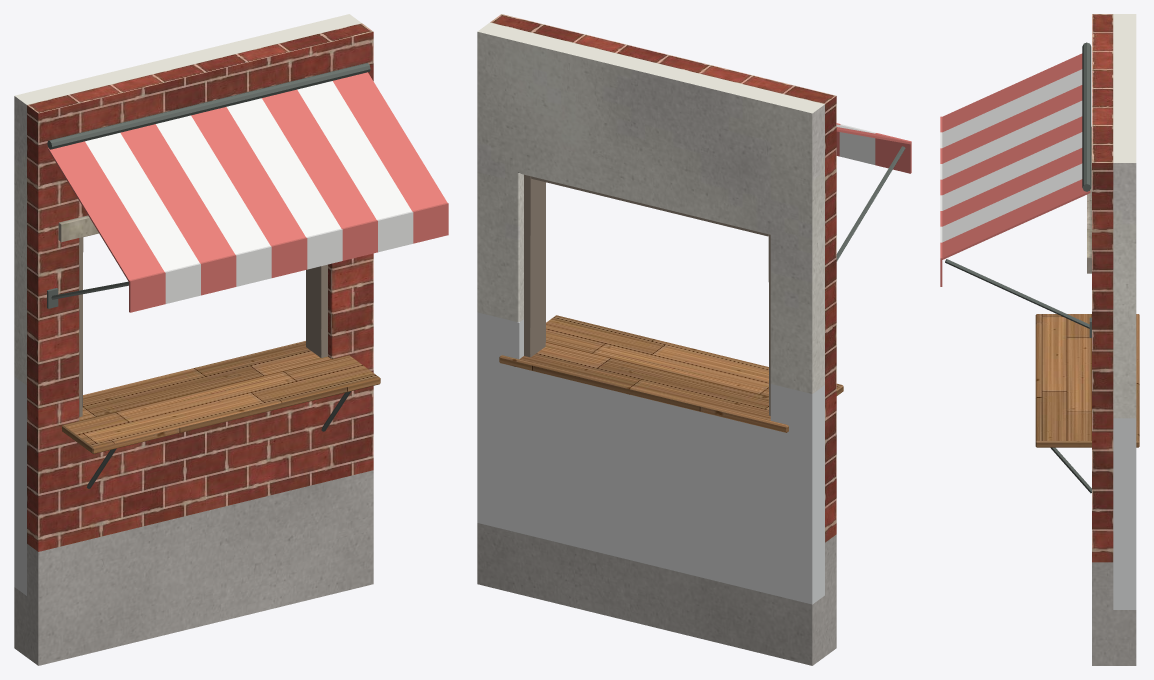
Rendered from q_svc.glb.
3 renders of one model, left to right at view 1: azimuth 30°, elevation 25°; view 2: azimuth 150°, elevation 25°; view 3: azimuth 270°, elevation 25°, orthographic. The views are drawn at different scales.
Visible parts, largest first — view 1: q_svc_brick, q_svc_concrete, q_svc_flag_r, q_svc_paint_w, q_svc_wood, q_svc_plaster, q_svc_iron, q_svc_tile, q_svc_trim, q_svc_stone; view 2: q_svc_plaster, q_svc_tile, q_svc_concrete, q_svc_wood, q_svc_brick, q_svc_trim, q_svc_flag_r, q_svc_paint_w; view 3: q_svc_flag_r, q_svc_brick, q_svc_plaster, q_svc_paint_w, q_svc_wood, q_svc_tile, q_svc_concrete, q_svc_iron, q_svc_stone.
Boxes of the visible parts, <box> form: q_svc_brick: <box>27,23,373,551</box>; q_svc_concrete: <box>14,470,373,665</box>; q_svc_flag_r: <box>47,72,448,312</box>; q_svc_paint_w: <box>85,81,413,303</box>; q_svc_wood: <box>62,341,380,453</box>; q_svc_plaster: <box>14,14,361,385</box>; q_svc_iron: <box>47,63,370,488</box>; q_svc_tile: <box>14,376,26,595</box>; q_svc_trim: <box>79,233,327,416</box>; q_svc_stone: <box>58,215,98,242</box>; q_svc_plaster: <box>477,22,824,393</box>; q_svc_tile: <box>477,312,824,604</box>; q_svc_concrete: <box>477,523,836,665</box>; q_svc_wood: <box>499,315,843,432</box>; q_svc_brick: <box>490,14,836,542</box>; q_svc_trim: <box>524,174,770,415</box>; q_svc_flag_r: <box>836,123,911,173</box>; q_svc_paint_w: <box>836,124,875,164</box>; q_svc_flag_r: <box>940,53,1090,286</box>; q_svc_brick: <box>1092,14,1113,562</box>; q_svc_plaster: <box>1113,14,1136,418</box>; q_svc_paint_w: <box>940,69,1082,242</box>; q_svc_wood: <box>1035,314,1139,447</box>; q_svc_tile: <box>1113,418,1136,609</box>; q_svc_concrete: <box>1092,562,1136,665</box>; q_svc_iron: <box>945,42,1091,493</box>; q_svc_stone: <box>1087,126,1091,273</box>.
Bounding box in the file's own units: 2 × 3.15 × 1.13.
Materials: 10 (5 with a texture image).
